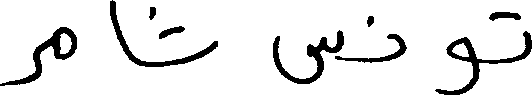ا: (108, 0, 132, 63)
ت: (489, 10, 530, 64)
ث: (147, 5, 215, 68)
ر: (0, 40, 41, 86)
س: (272, 28, 343, 85)
م: (53, 25, 74, 60)
ن: (366, 13, 406, 63)
و: (434, 34, 478, 93)
